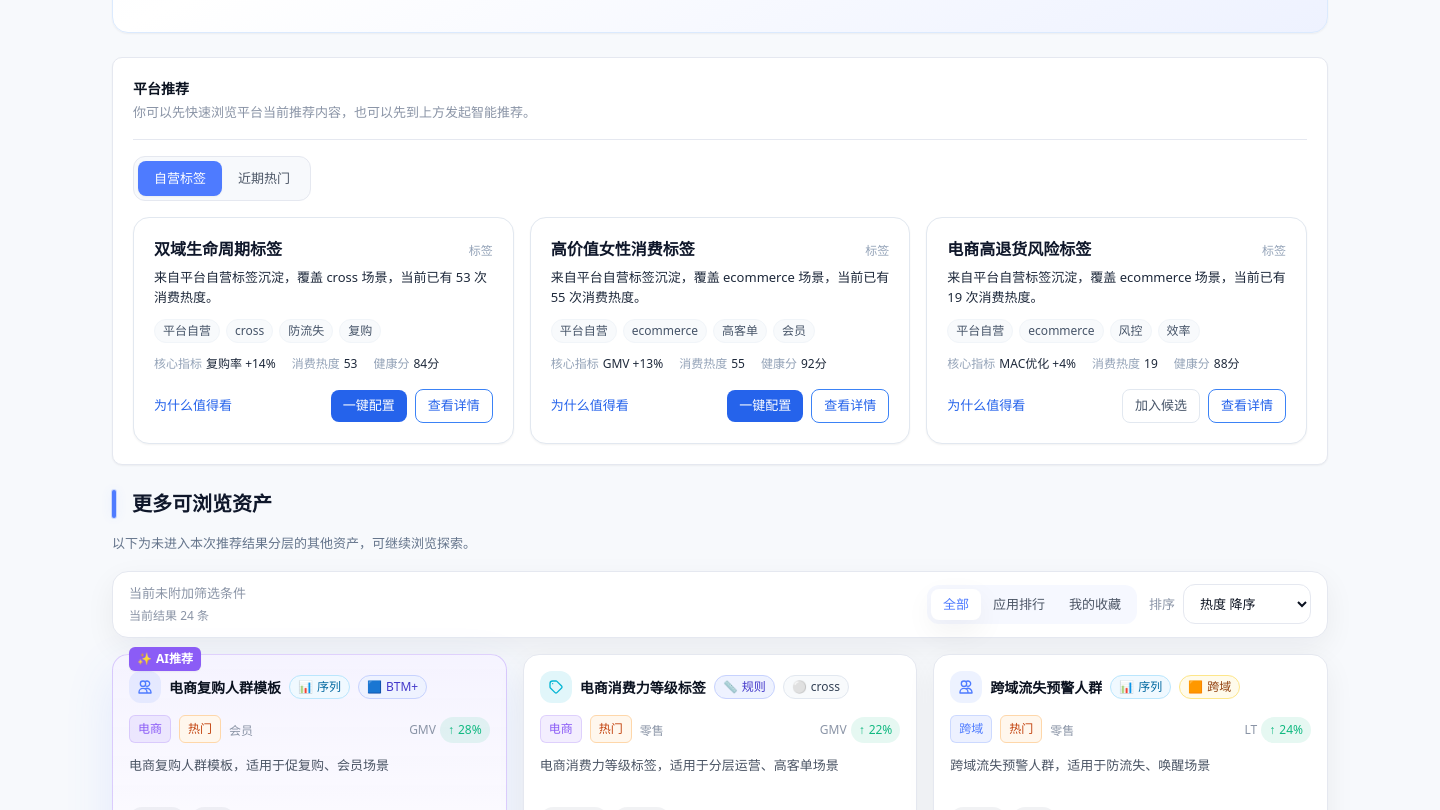
Test: MarketplacePage 单一推荐主链路 › 平台推荐卡片点击后打开 RecommendationDetailModal，并按平台来源展示文案
The image size is (1440, 810).
(page scrolled)
Expected: the text "平台推荐" is shown, 133,79 -> 189,98
Expected: the text "ready（可直接复用）" is not shown
Click the 1st button "查看详情". click: coordinates (454, 406)
box: 415,389 -> 493,422
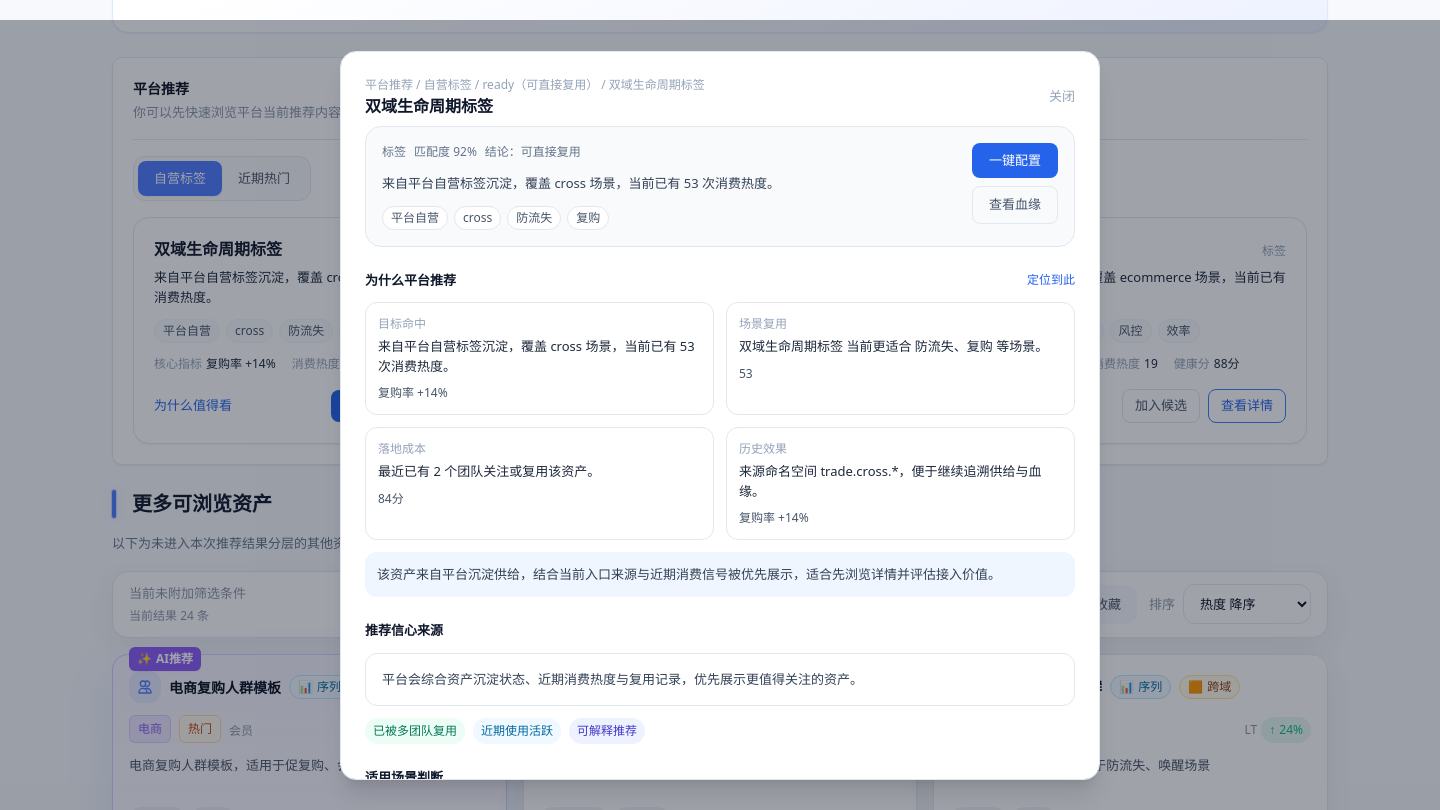
Expected: the dialog is shown, 340,50 -> 1100,780
Expected: the text "平台推荐 / 自营标签 / ready（可直接复用） / 双域生命周期标签" is shown, 365,76 -> 705,94
Expected: the heading "为什么平台推荐" is shown, 365,271 -> 456,290
